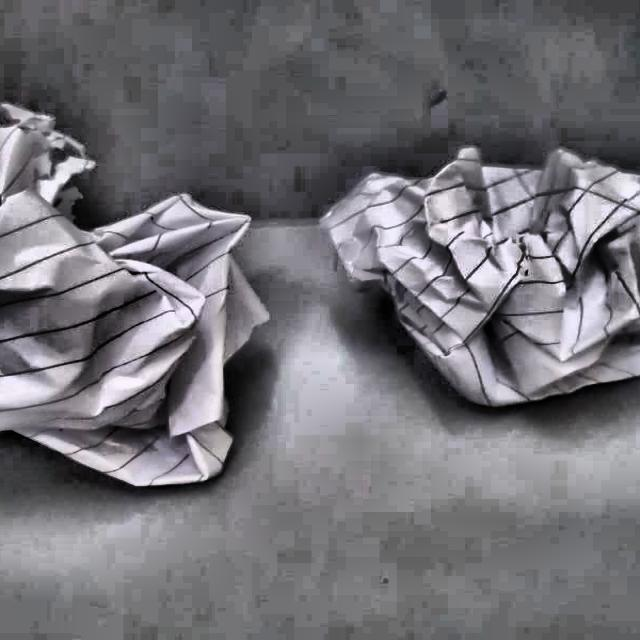paper: (0, 72, 292, 515), (350, 94, 640, 422)
